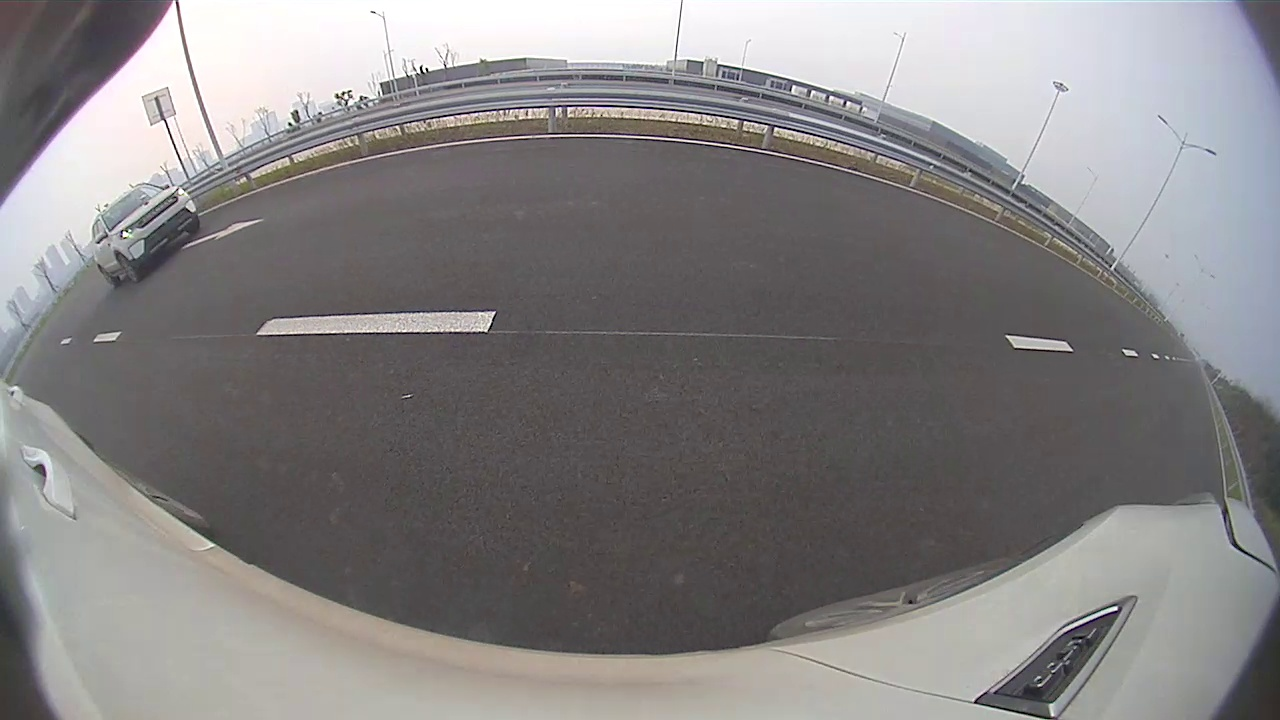car: (377, 149, 519, 239)
front: (503, 184, 519, 213)
rear: (456, 192, 481, 230)
